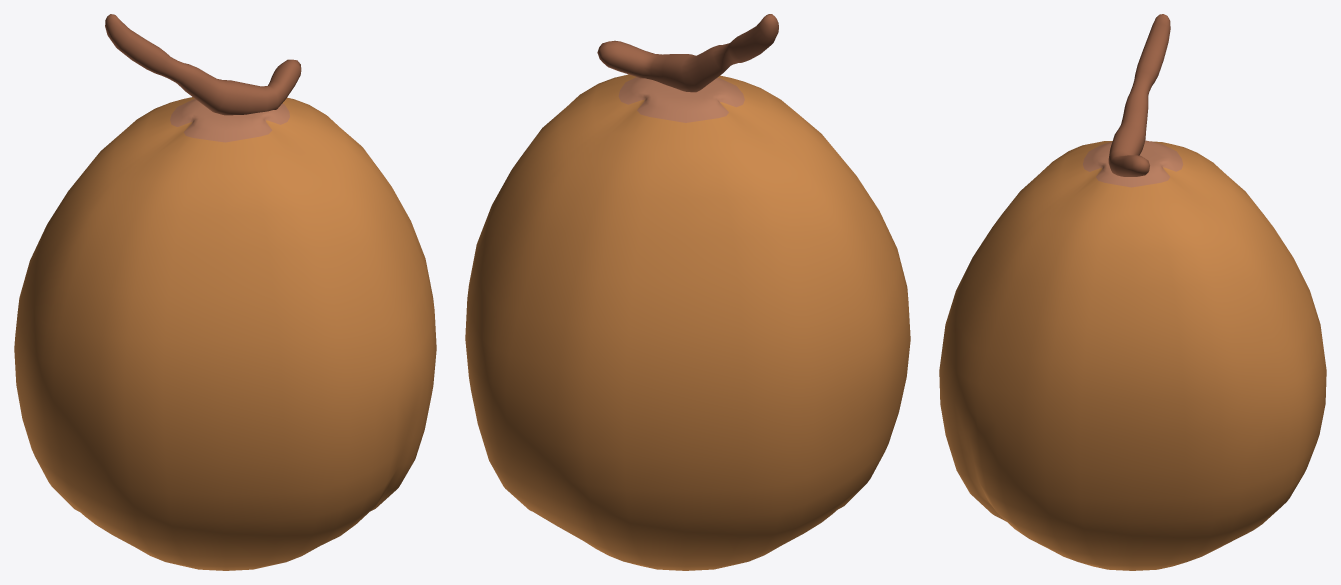
The model's file is Coconut_03.dae.
3 views of the same model, side by side, from view 1: azimuth 30°, elevation 25°; view 2: azimuth 150°, elevation 25°; view 3: azimuth 270°, elevation 25° (orthographic). The views are drawn at different scales.
Parts seen in each view (by area): view 1: Coconut_03_LOD0; view 2: Coconut_03_LOD0; view 3: Coconut_03_LOD0.
Boxes of the visible parts, bbox=[...] form: Coconut_03_LOD0: bbox=[14, 14, 436, 570]; Coconut_03_LOD0: bbox=[465, 14, 910, 570]; Coconut_03_LOD0: bbox=[939, 14, 1326, 570].
Size of what is drawn, in the model's own units: 4.78 by 4.92 by 6.86.
